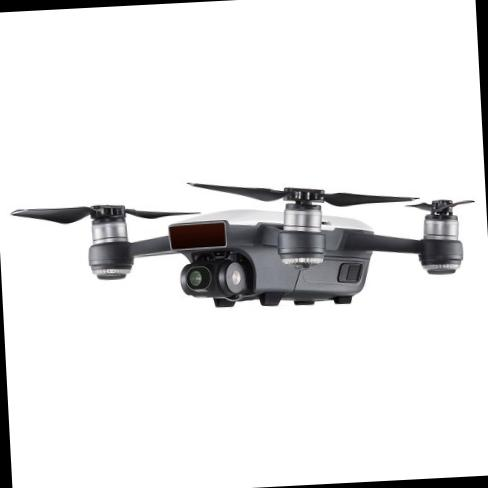drone: (8, 171, 482, 330)
